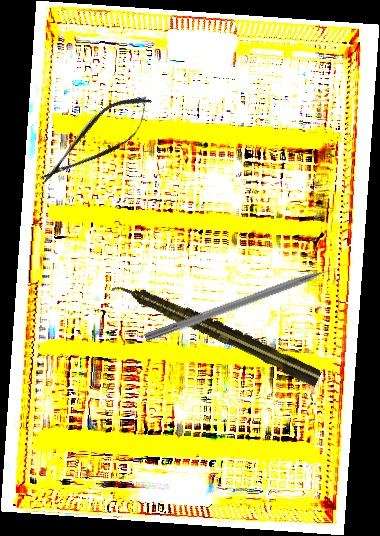Handpiece: (110, 274, 323, 389)
Micro Scissor: (28, 82, 164, 199)
Pusher: (143, 257, 356, 345)
